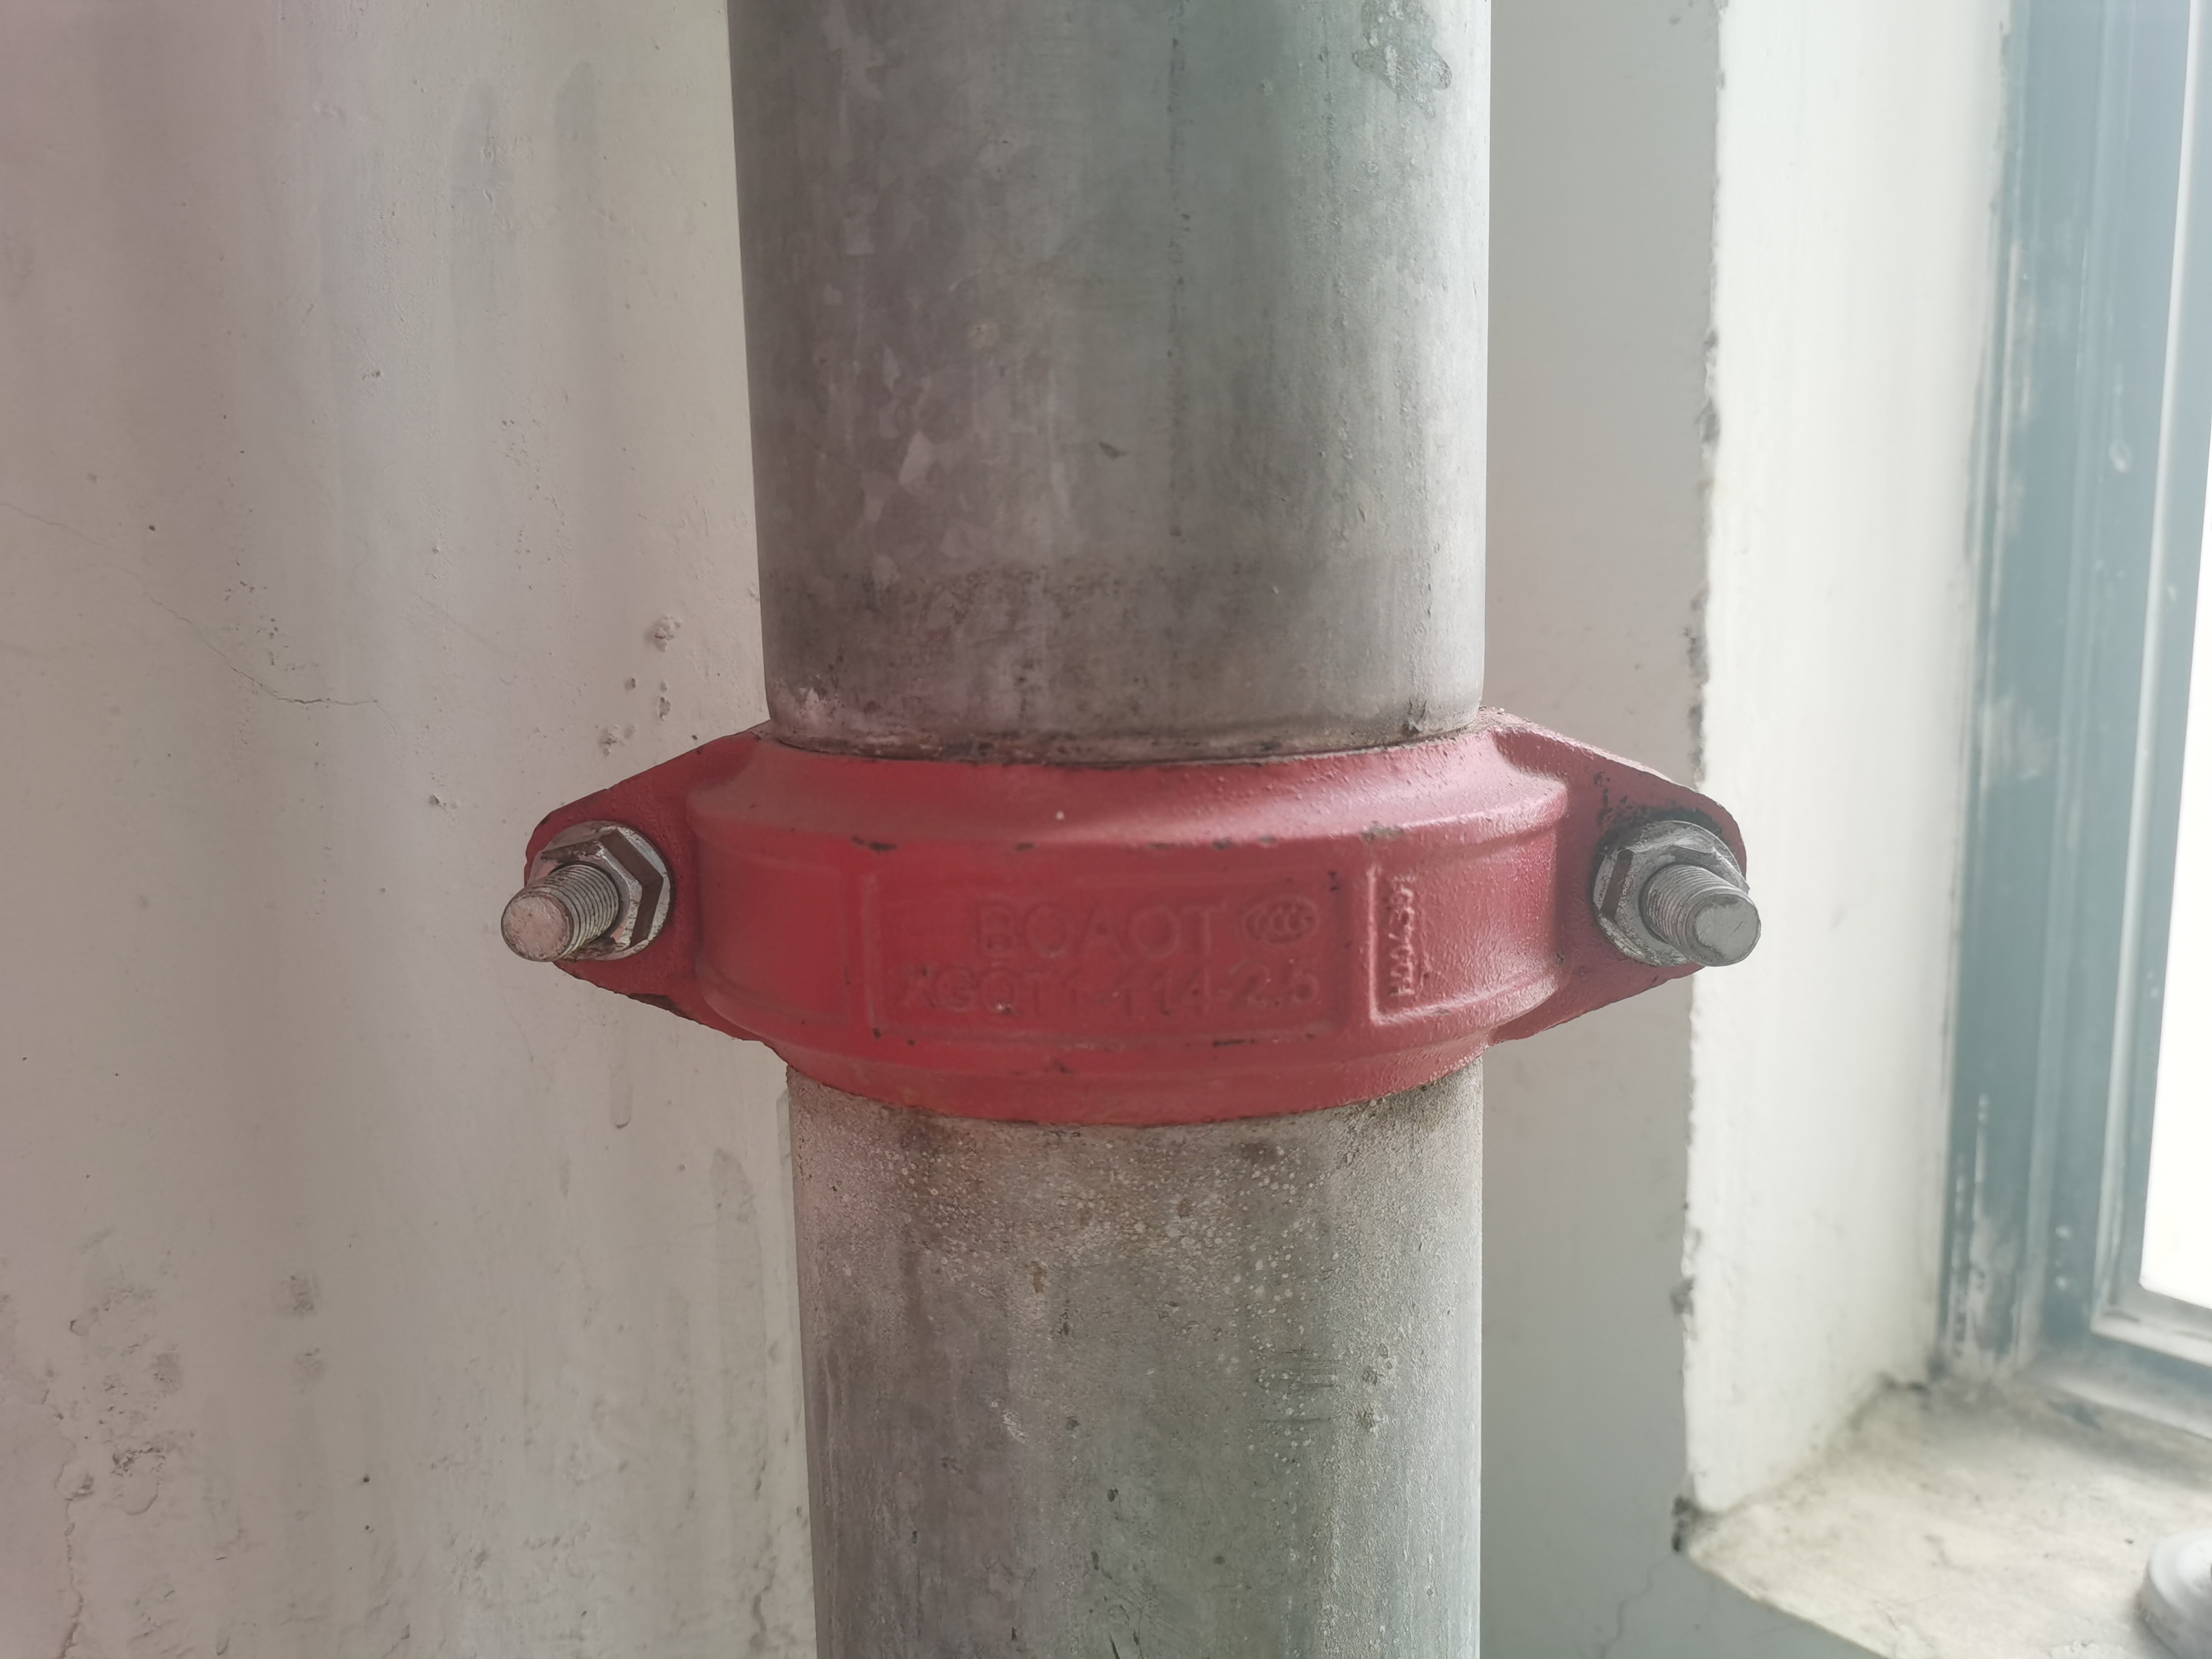bolt_b: (1594, 816, 1759, 978), (516, 817, 669, 971)
